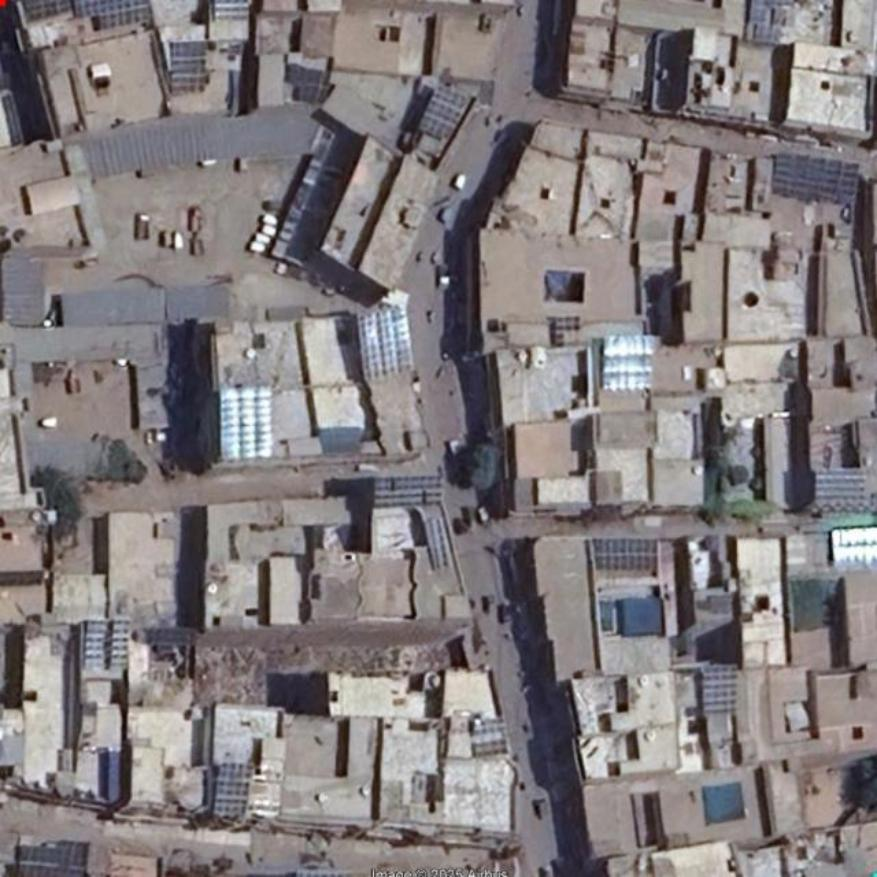Solarpanel: (769, 152, 859, 204), (355, 305, 414, 378), (220, 388, 273, 463), (603, 336, 654, 390), (812, 464, 868, 509), (419, 85, 466, 138), (214, 760, 253, 819), (74, 0, 150, 30), (373, 475, 440, 508), (18, 846, 88, 876), (86, 620, 131, 666), (168, 41, 208, 92), (596, 539, 657, 568), (703, 666, 736, 716), (831, 529, 876, 562), (211, 0, 250, 22)
